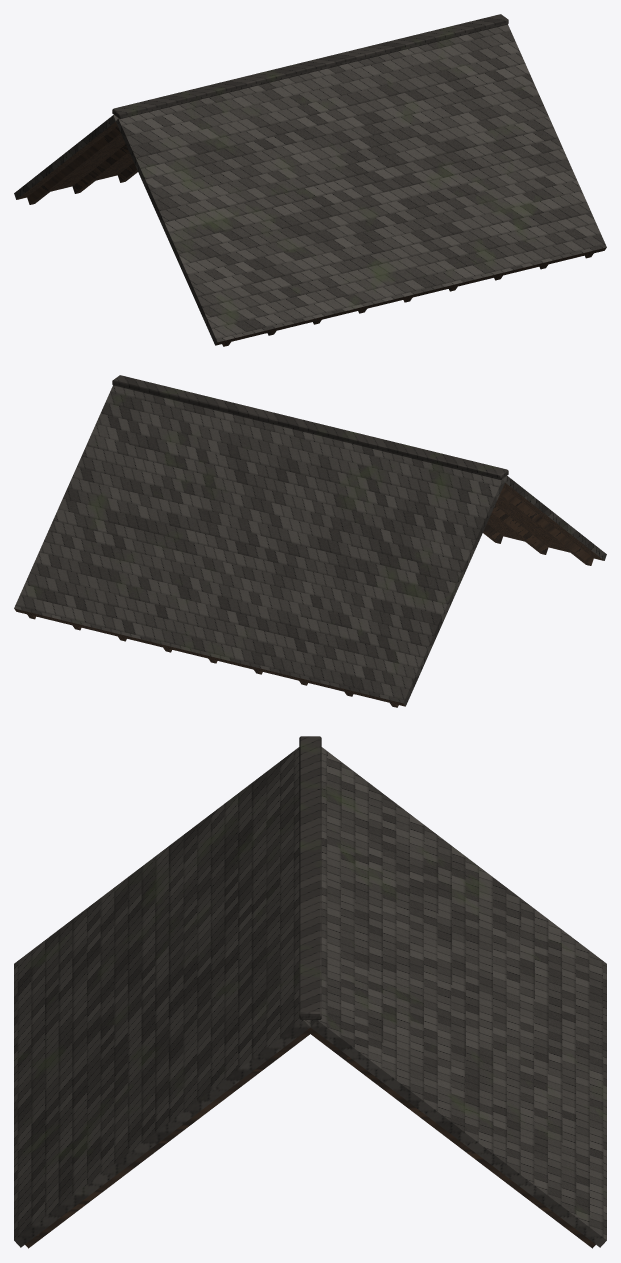
The model's file is SM_Forge_Roof.glb.
3 renders of one model, top to bottom at view 1: azimuth 30°, elevation 25°; view 2: azimuth 150°, elevation 25°; view 3: azimuth 270°, elevation 25°, orthographic. The views are drawn at different scales.
Visible parts, largest first — view 1: SM_Forge_Roof; view 2: SM_Forge_Roof; view 3: SM_Forge_Roof.
Boxes of the visible parts, x1=… form: SM_Forge_Roof: x1=14, y1=14, x2=606, y2=346; SM_Forge_Roof: x1=14, y1=375, x2=606, y2=707; SM_Forge_Roof: x1=14, y1=736, x2=606, y2=1248.
Bounding box in the file's own units: 8.7 × 3.57 × 7.88.
Materials: 1 (1 with a texture image).
